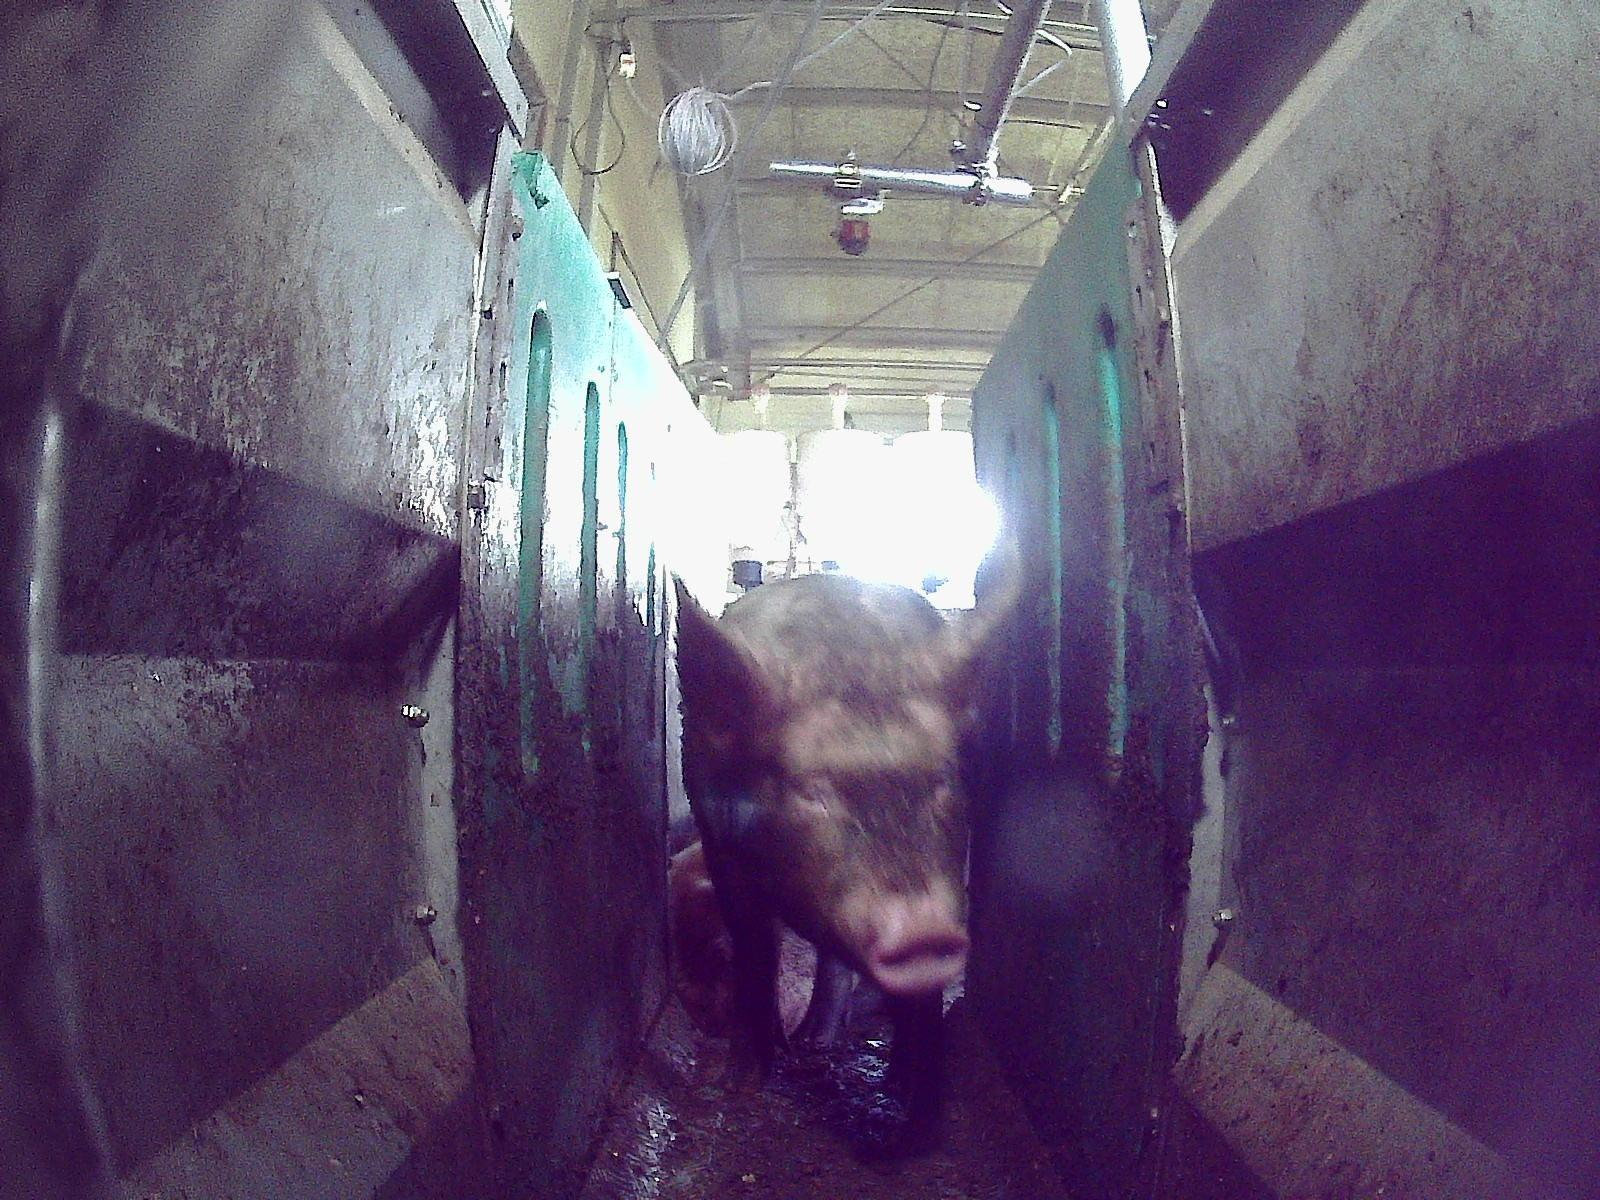Face: (736, 634, 973, 1001)
